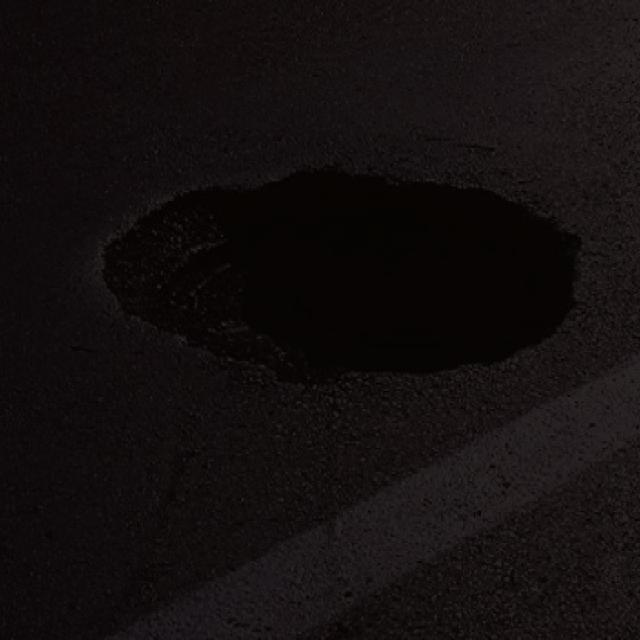Pothole: (86, 157, 594, 392)
